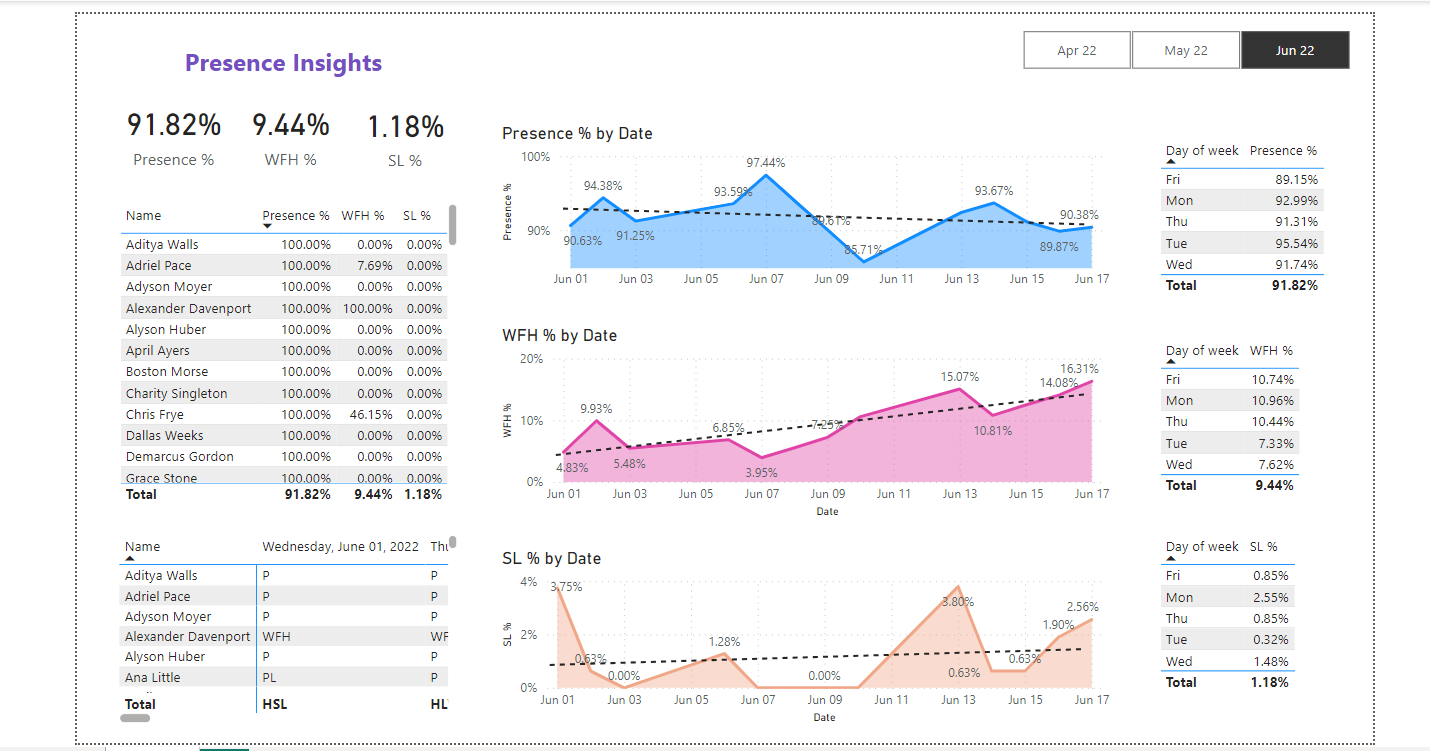

The dashboard page shown, as its layout file describes it:
{"tool":"powerbi","page":{"name":"Presence_analytics_dashboard","canvas":[1280,720],"ordinal":0},"visuals":[{"type":"textbox","box":[0,0,1279.5,56],"z":0},{"type":"card","fields":{"Values":["Measure Table.Presence %"]},"box":[16.7,66.6,122.7,115.1],"z":1000},{"type":"slicer","fields":{"Values":["Final Data.Month"]},"box":[390.7,56,888.8,51.5],"z":2000},{"type":"card","fields":{"Values":["Measure Table.WFH %"]},"box":[151.4,66.6,125.7,115.1],"z":3000},{"type":"card","fields":{"Values":["Measure Table.SL %"]},"box":[287.7,66.6,115.1,115.1],"z":4000},{"type":"tableEx","fields":{"Values":["Final Data.Name","Measure Table.Presence %","Measure Table.WFH %","Measure Table.SL %"]},"box":[16.7,181.7,386.1,305.9],"z":5000},{"type":"pivotTable","fields":{"Columns":["Final Data.Date"],"Rows":["Final Data.Name"],"Values":["Min(Final Data.Value)"]},"box":[16.7,487.6,386.1,218],"z":6000},{"type":"areaChart","fields":{"Category":["Final Data.Date"],"Y":["Measure Table.Presence %"]},"box":[414.9,107.5,620.8,180.2],"z":7000},{"type":"areaChart","fields":{"Category":["Final Data.Date"],"Y":["Measure Table.WFH %"]},"box":[414.9,296.8,620.8,210.5],"z":8000},{"type":"areaChart","fields":{"Category":["Final Data.Date"],"Y":["Measure Table.SL %"]},"box":[414.9,517.9,620.8,187.8],"z":9000},{"type":"tableEx","fields":{"Values":["Final Data.Day of week","Measure Table.Presence %"]},"box":[1049.3,107.5,219.6,180.2],"z":10000},{"type":"tableEx","fields":{"Values":["Final Data.Day of week","Measure Table.WFH %"]},"box":[1049.3,296.8,219.6,210.5],"z":11000},{"type":"tableEx","fields":{"Values":["Final Data.Day of week","Measure Table.SL %"]},"box":[1049.3,510.3,219.6,195.3],"z":12000}]}

Visuals, with their boxes on the page's 1280x720 design canvas (x1, y1, x2, y2). These are canvas units, not pixel positions in the 1430x751 screenshot, which may show the page scaled, cropped or inside an application window:
textbox: crop(0, 0, 1280, 56)
card - Measure Table.Presence %: crop(17, 67, 139, 182)
slicer - Final Data.Month: crop(391, 56, 1280, 108)
card - Measure Table.WFH %: crop(151, 67, 277, 182)
card - Measure Table.SL %: crop(288, 67, 403, 182)
tableEx - Final Data.Name x Measure Table.Presence %: crop(17, 182, 403, 488)
pivotTable - Final Data.Date x Final Data.Name: crop(17, 488, 403, 706)
areaChart - Final Data.Date x Measure Table.Presence %: crop(415, 108, 1036, 288)
areaChart - Final Data.Date x Measure Table.WFH %: crop(415, 297, 1036, 507)
areaChart - Final Data.Date x Measure Table.SL %: crop(415, 518, 1036, 706)
tableEx - Final Data.Day of week x Measure Table.Presence %: crop(1049, 108, 1269, 288)
tableEx - Final Data.Day of week x Measure Table.WFH %: crop(1049, 297, 1269, 507)
tableEx - Final Data.Day of week x Measure Table.SL %: crop(1049, 510, 1269, 706)
